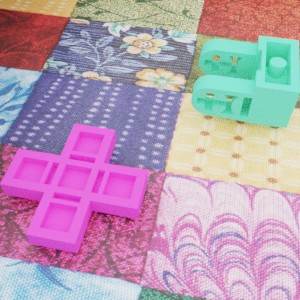lego: (0, 123, 147, 253), (190, 35, 299, 128)
